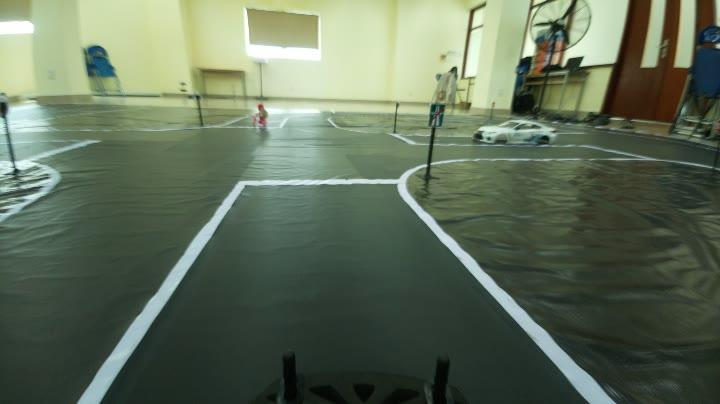highway_exit: (423, 98, 450, 129)
